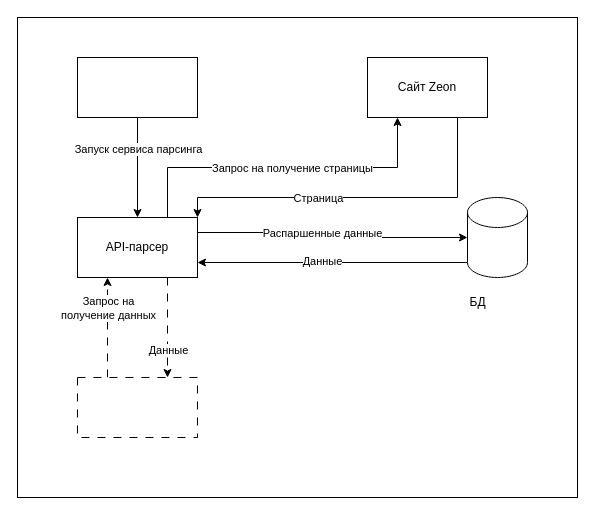
This 595x515 diagram has some shape labels left out. Here are the shapes that lost their labels. From the top down, the centre of each, then its label:
At point (137, 87): "Background worker".
At point (137, 407): "Клиент".
